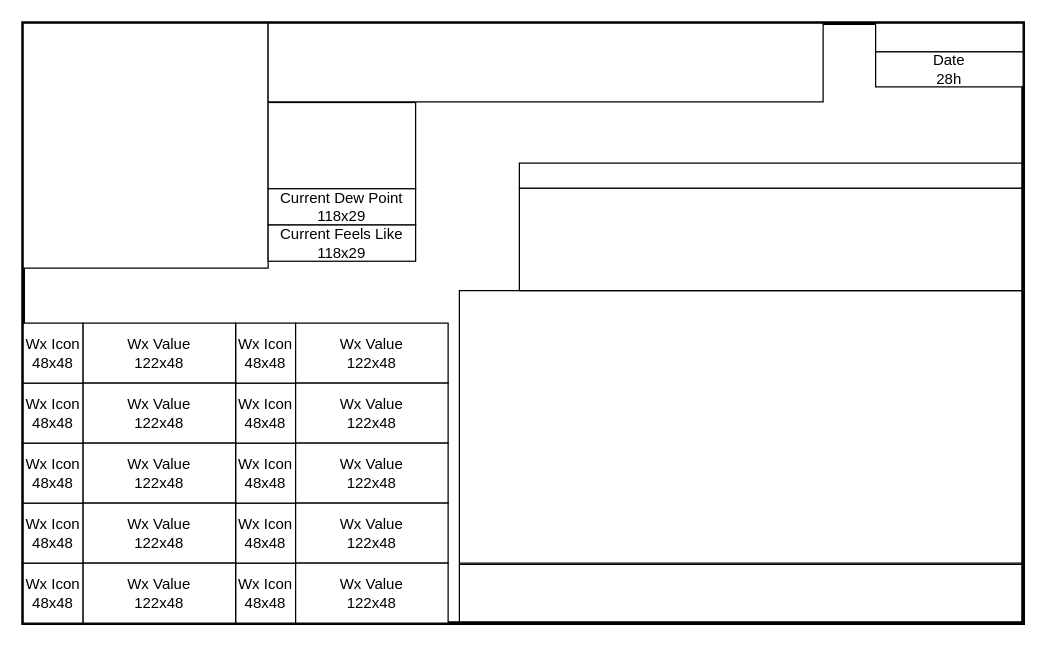
This 1046x646 diagram has some shape labels left out. The shapes that lost their labels are listed below. From the top down, each one's centre as x and y in pixels, then its label:
At (x=948, y=37): "Location Name 23h".
At (x=545, y=62): "Alert Placeholder 63h".
At (x=145, y=145): "Current Conditions Icon 196x196".
At (x=341, y=145): "Current Temperature 118x69".
At (x=770, y=175): "Forecast Day of Week Header 402x20".
At (x=770, y=239): "Forecast 402x82".
At (x=740, y=426): "Graph 450x218".
At (x=740, y=592): "Status Bar 450x46".
